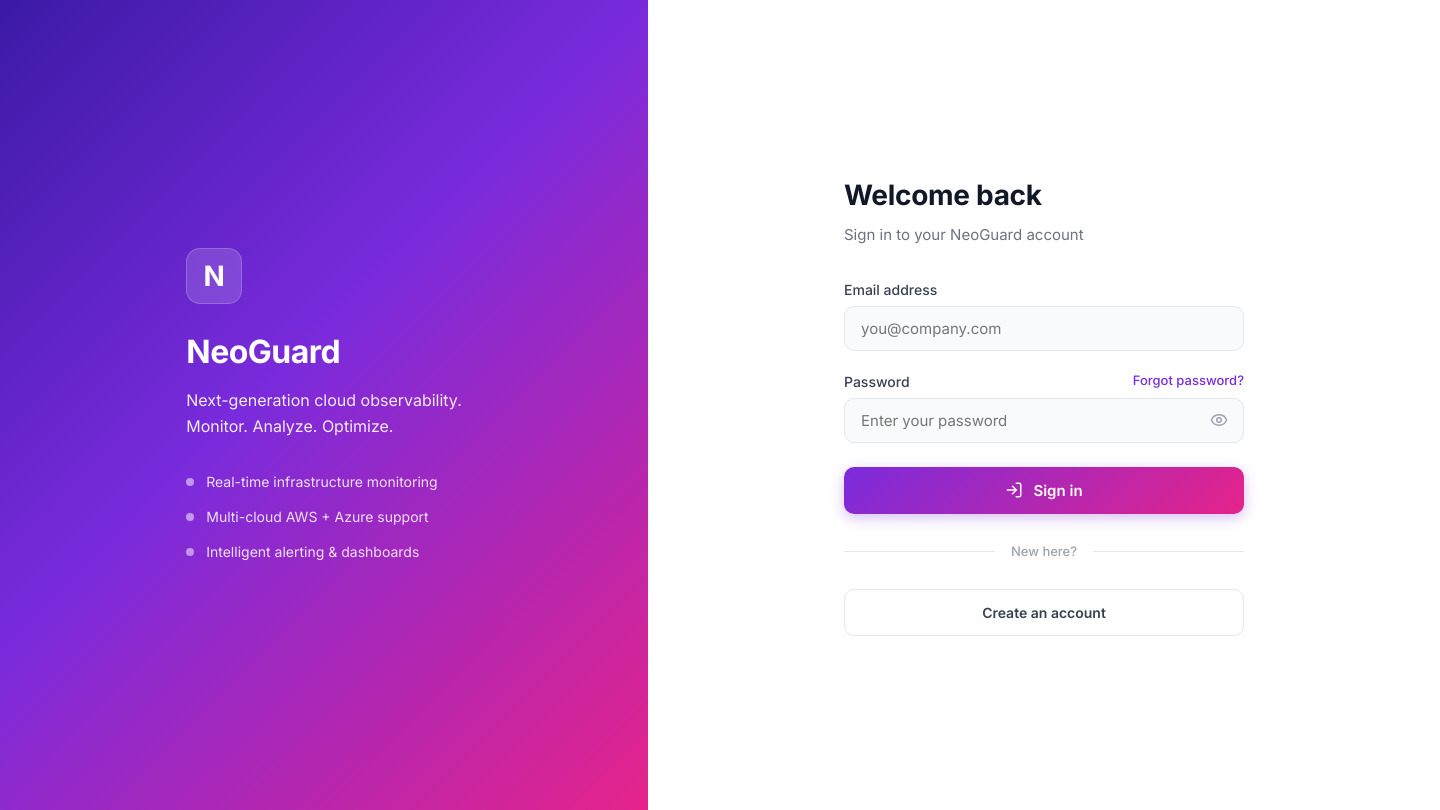
LoginPage › clears error on new submission
The width and height of the screenshot is (1440, 810).
Type "test@test.com" into the field with placeholder "you@company.com". click: (1044, 328)
box: [844,306,1244,350]
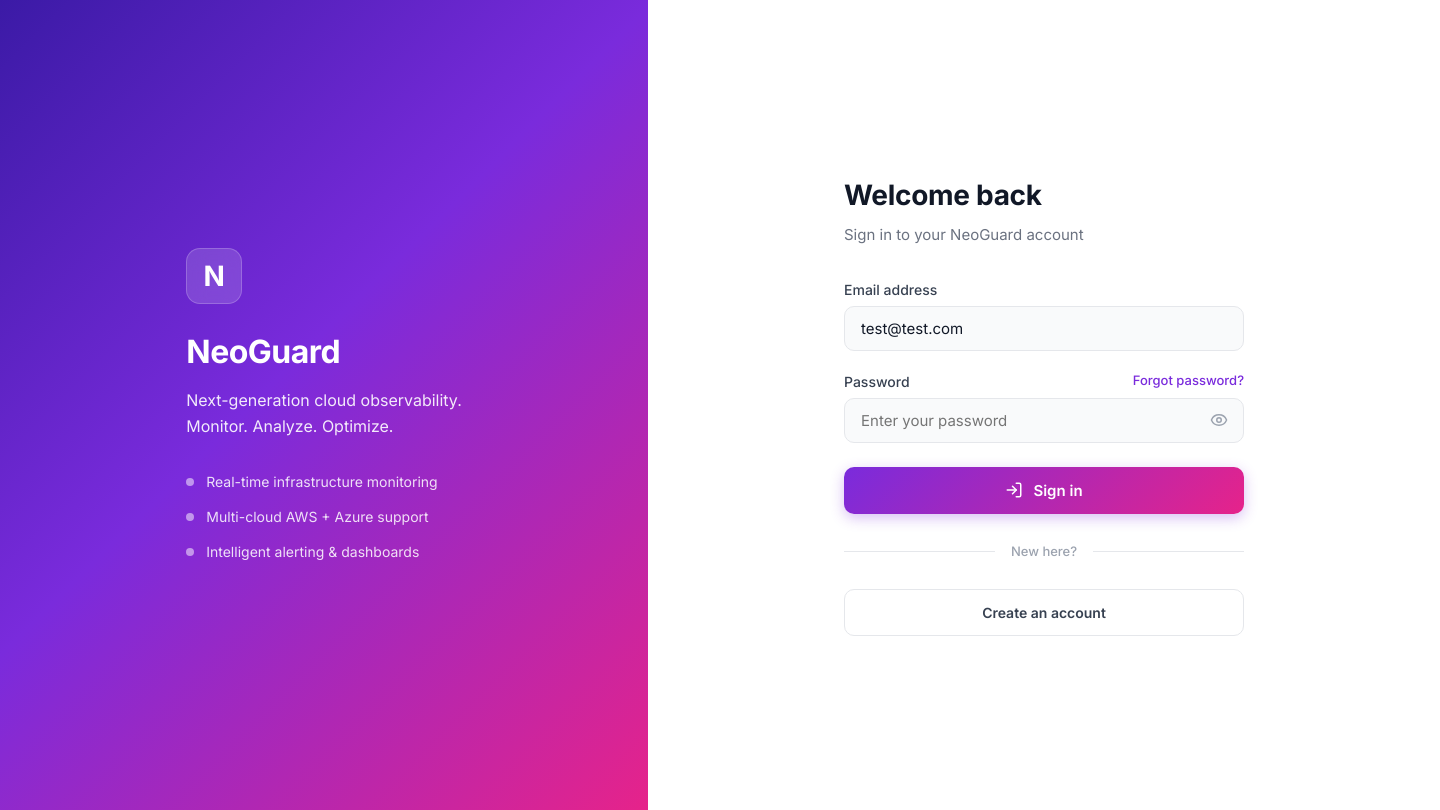
Type "wrong" into the password field with placeholder "Enter your password". click: (1044, 420)
box: [844,398,1244,442]
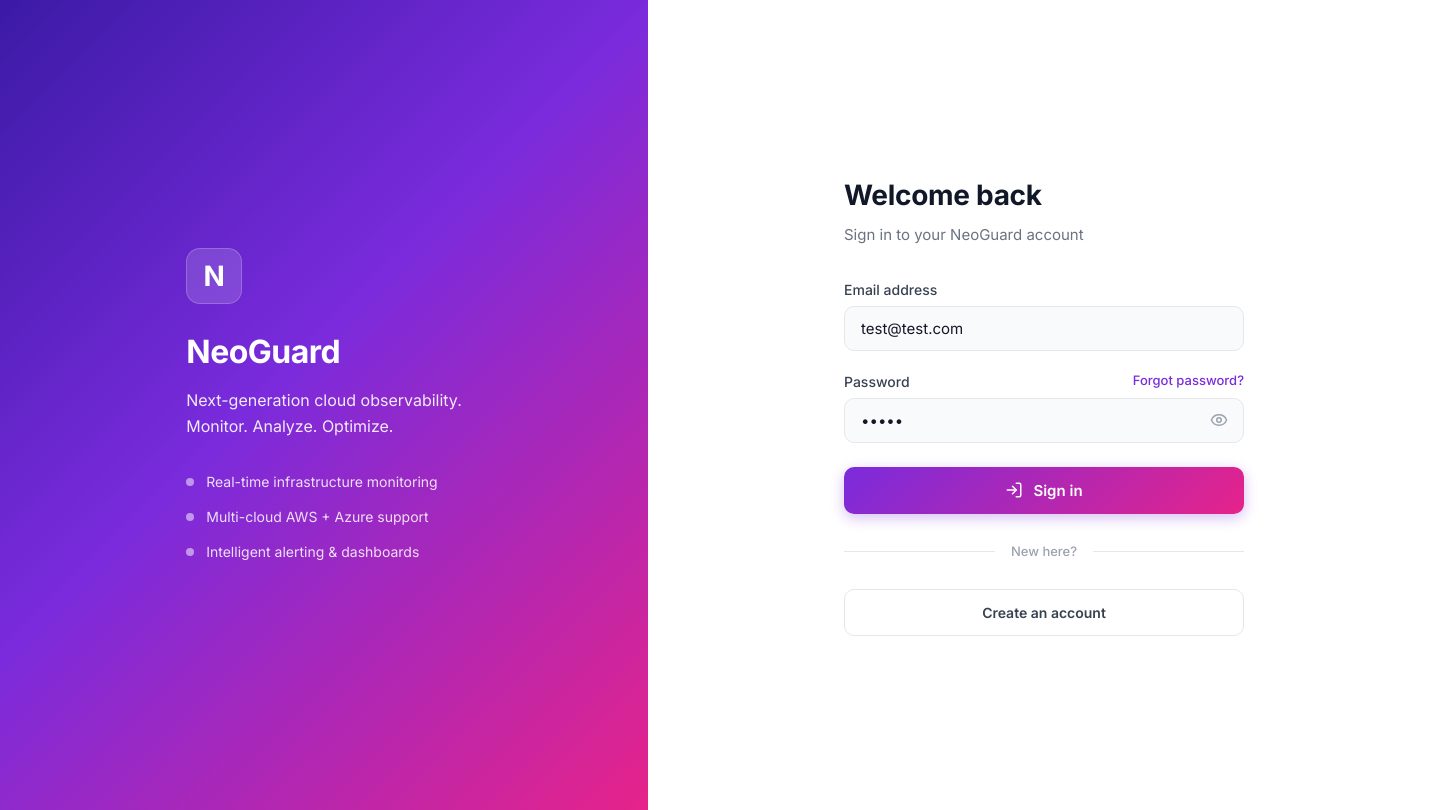
Click the button "Sign in". click: (1044, 490)
box: [844,466,1244,514]
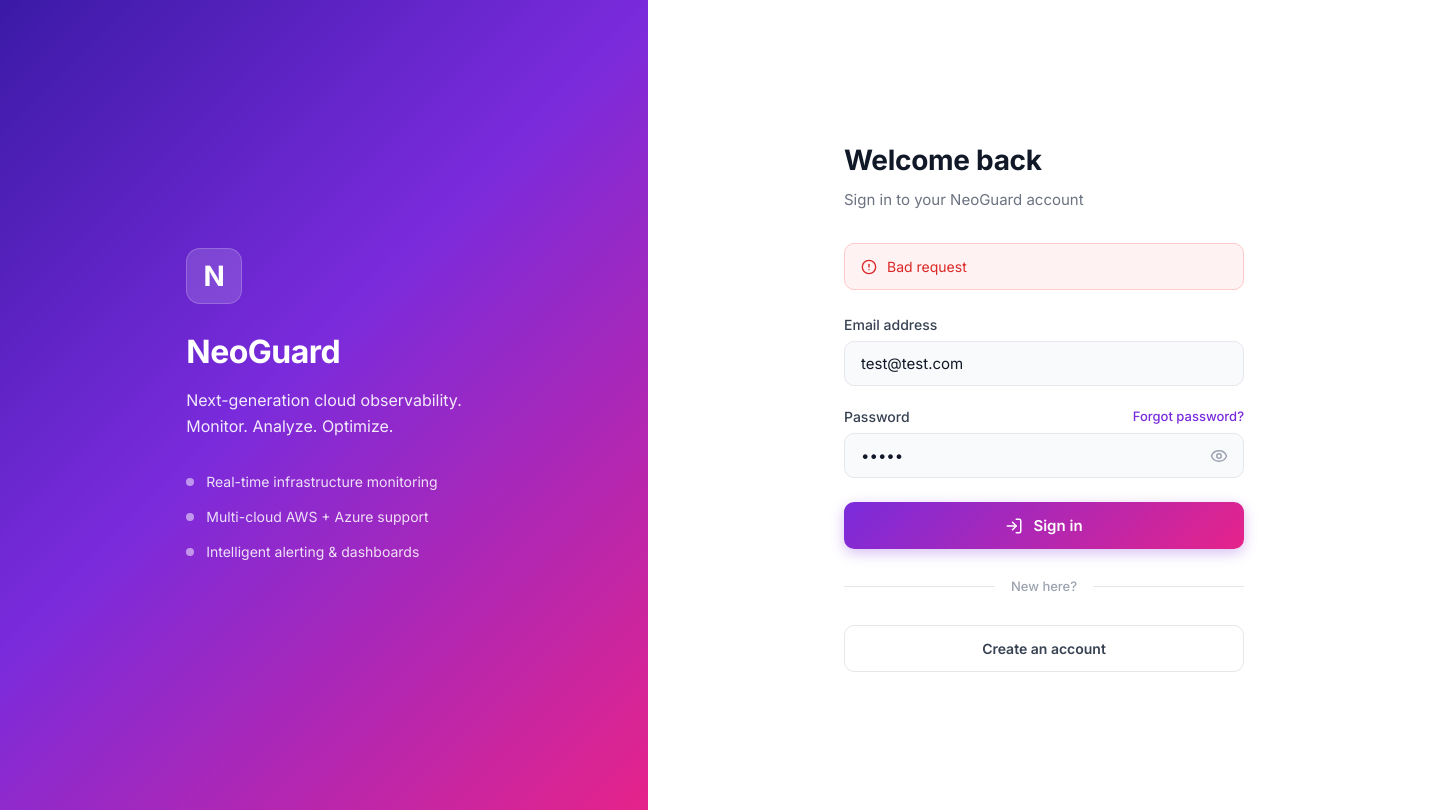
Expected: the text "Bad request" is shown, [887,256,967,277]
Type "correct1" into the password field with placeholder "Enter your password". click: (1044, 456)
box: [844,433,1244,478]
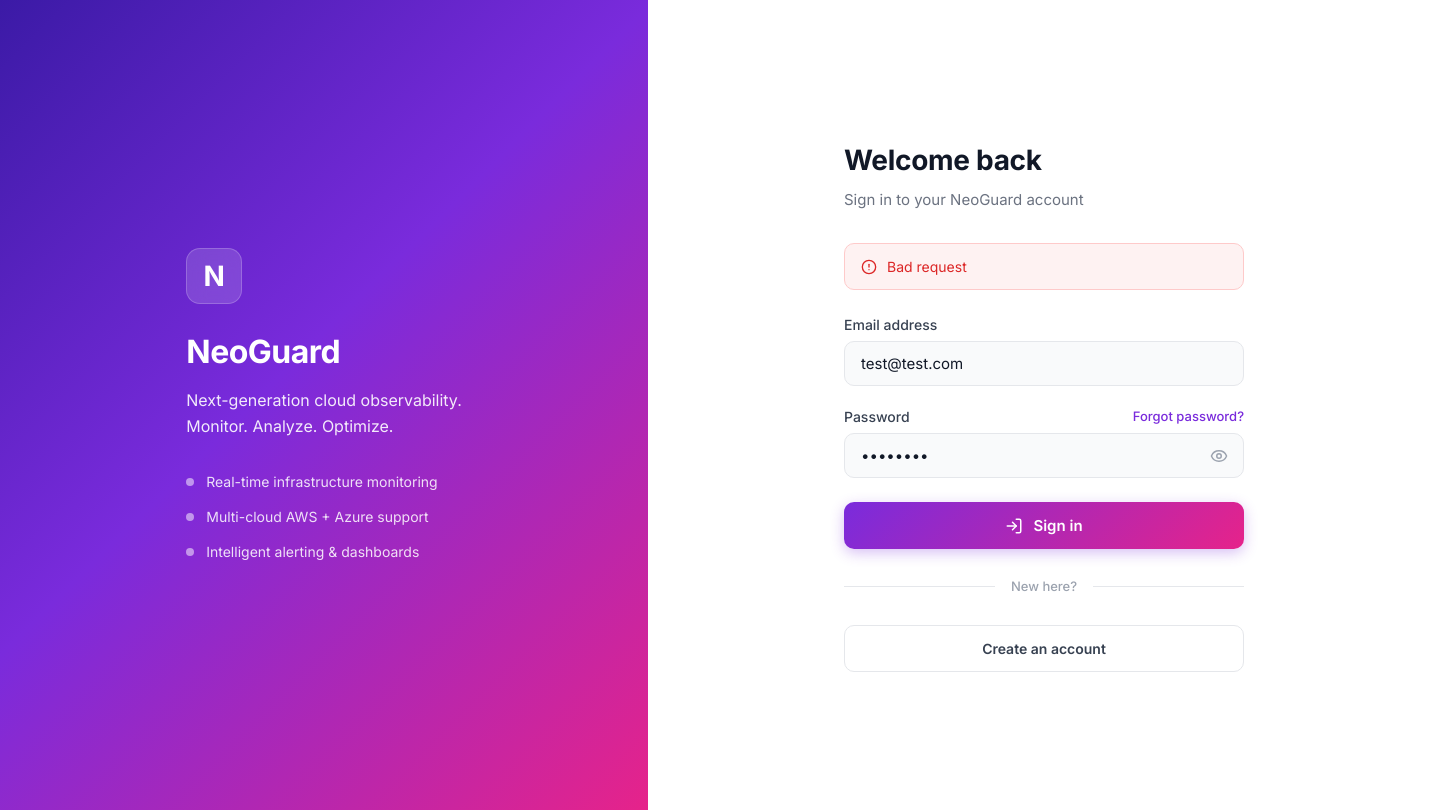
Click the button "Sign in". click: (1044, 526)
box: [844,502,1244,549]
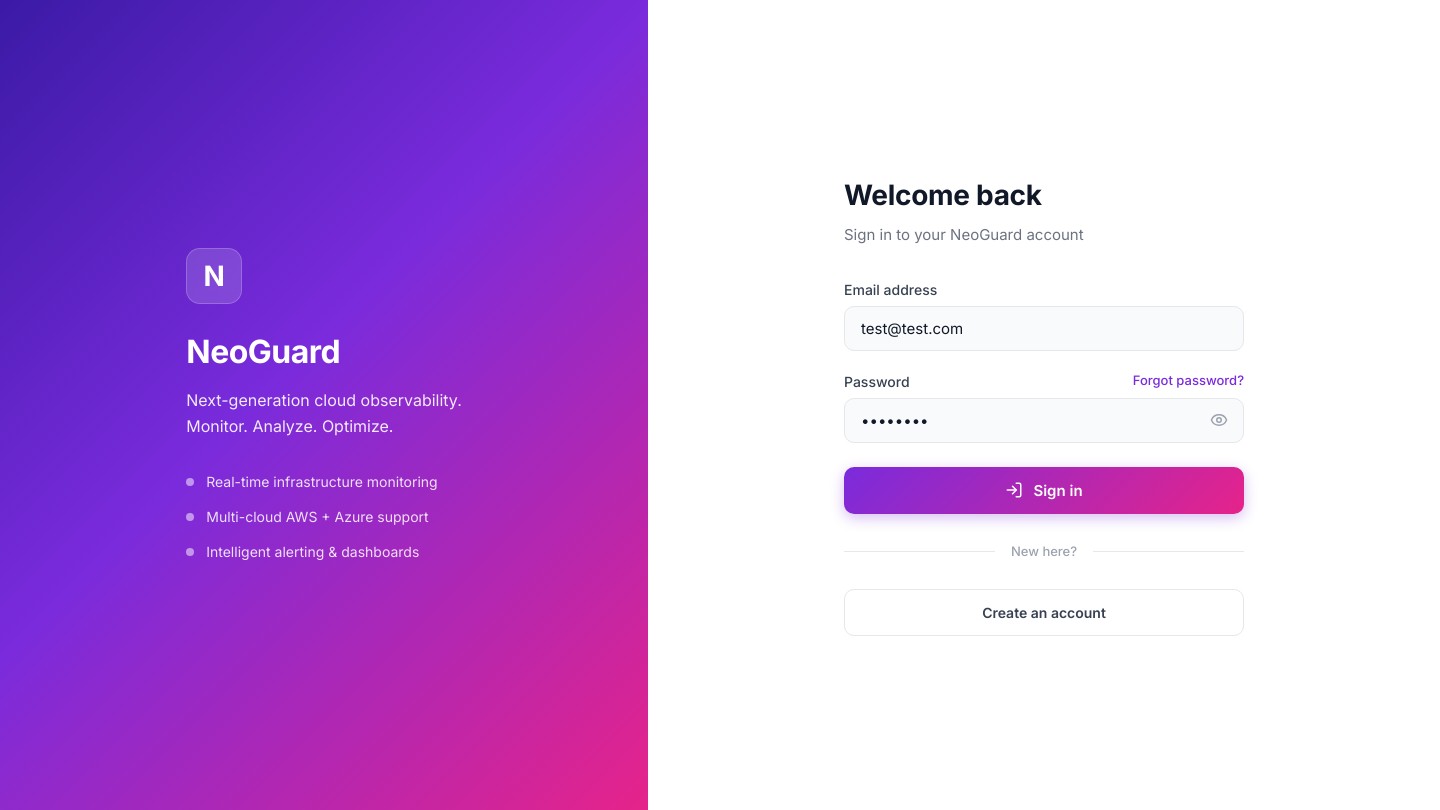
Expected: the text "Bad request" is gone
